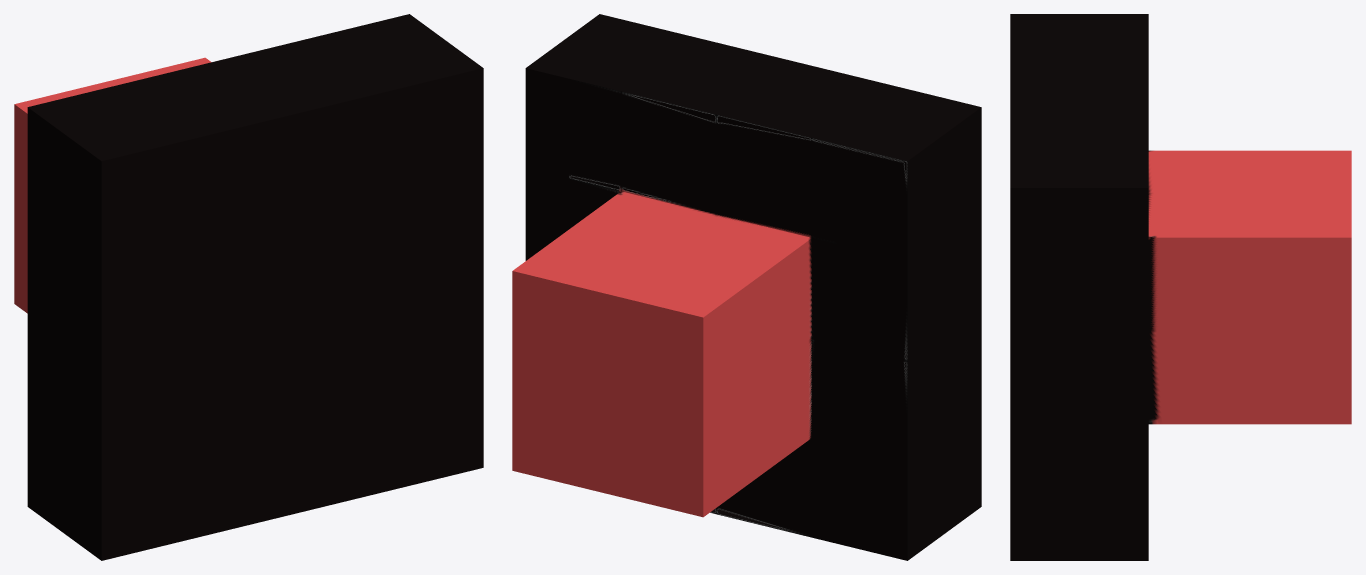
The model's file is lamp.obj.
The picture shows the model from 3 angles, left to right: view 1: azimuth 30°, elevation 25°; view 2: azimuth 150°, elevation 25°; view 3: azimuth 270°, elevation 25°; orthographic projection. The views are drawn at different scales.
Visible parts, largest first — view 1: Cube.001; view 2: Cube.001; view 3: Cube.001.
Part boxes in pixels (x1,y1,x2,y2): Cube.001: [14, 14, 483, 560]; Cube.001: [512, 14, 981, 560]; Cube.001: [1010, 14, 1351, 560].
Bounding box in the file's own units: 1 × 1 × 0.8287.
Materials: 1 (1 with a texture image).
